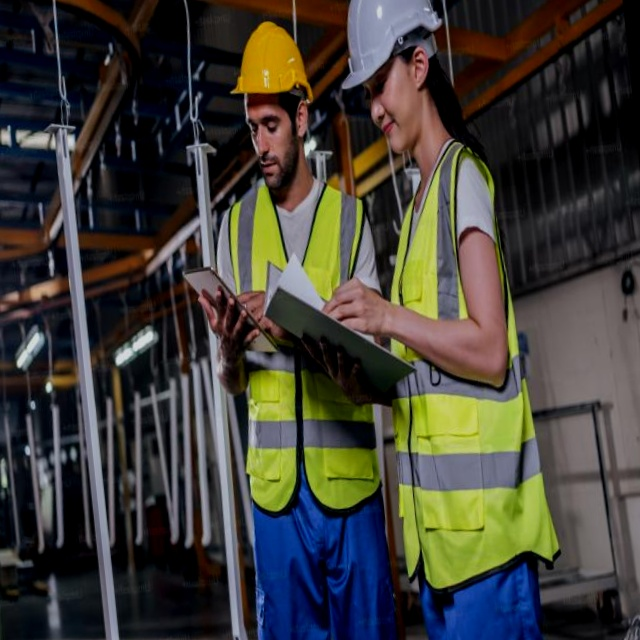Con_Casco: (332, 0, 449, 159), (223, 16, 317, 185)
Con_Chaleco: (364, 143, 558, 574), (218, 182, 394, 505)
